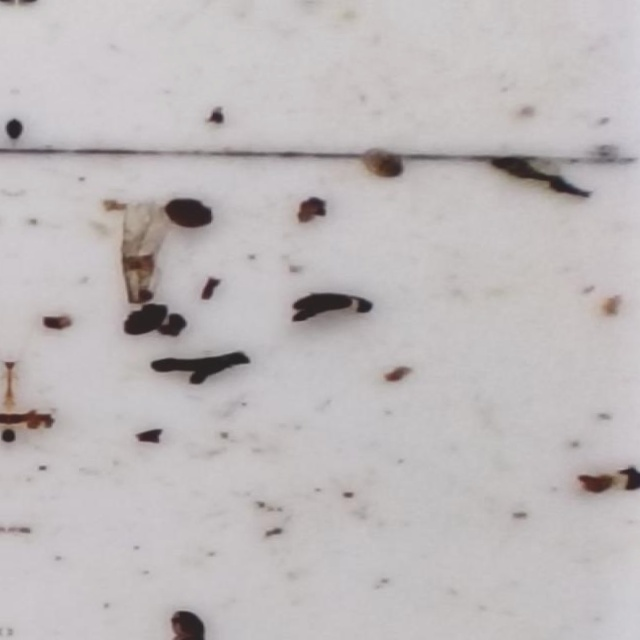varroa: (162, 198, 216, 228), (166, 608, 204, 635)
